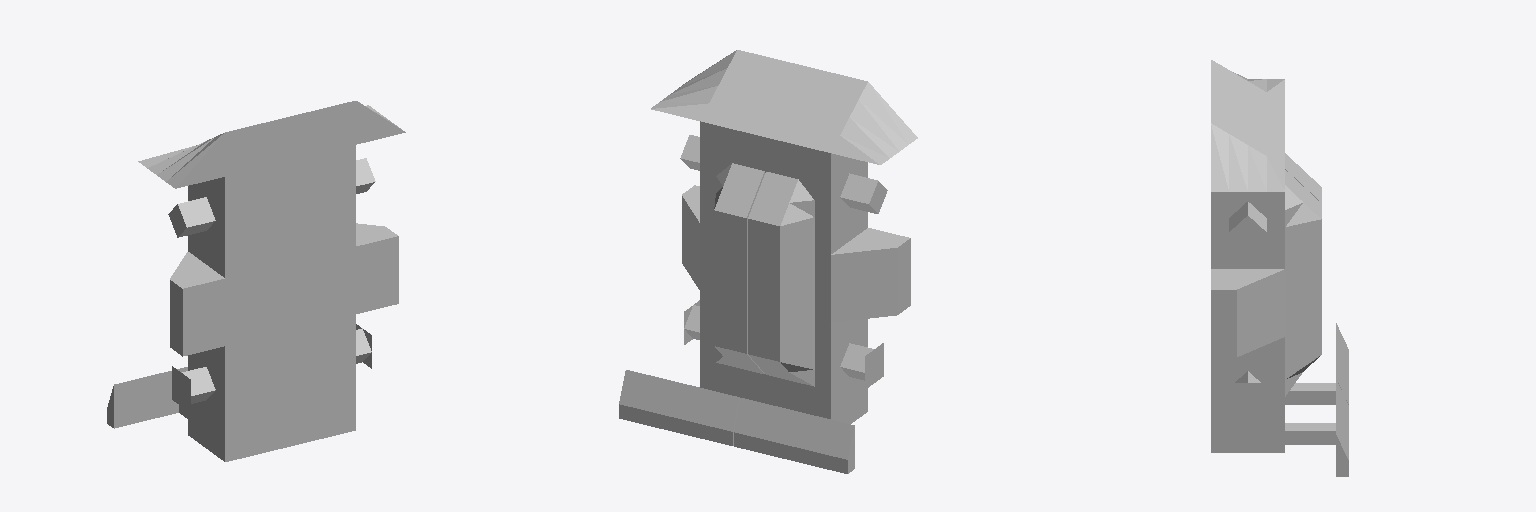
File: carro.obj
The picture shows the model from 3 angles: view 1: azimuth 30°, elevation 25°; view 2: azimuth 150°, elevation 25°; view 3: azimuth 270°, elevation 25°; orthographic projection.
Visible parts, largest first — view 1: Cube; view 2: Cube; view 3: Cube.
Part boxes in pixels (bbox=[...]): Cube: bbox=[107, 101, 405, 461]; Cube: bbox=[619, 50, 917, 473]; Cube: bbox=[1211, 60, 1348, 476].
Bounding box in the file's own units: 3.56 × 4.87 × 1.86.